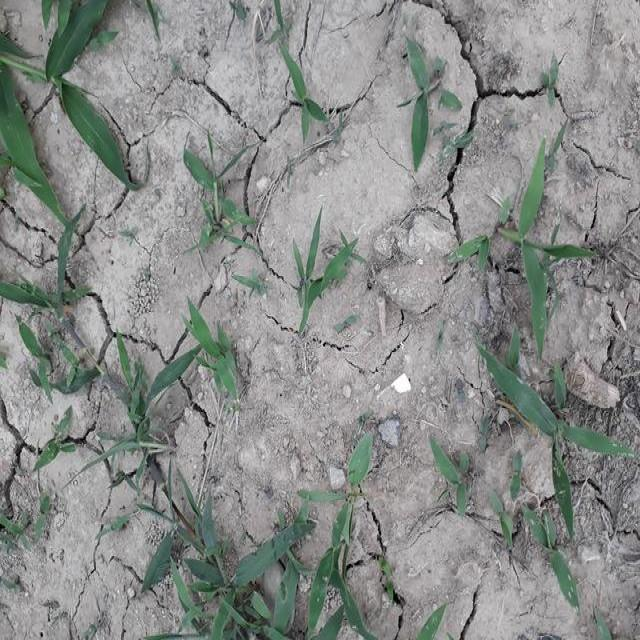weed: (95, 287, 283, 640), (480, 140, 606, 552), (0, 0, 146, 207)
